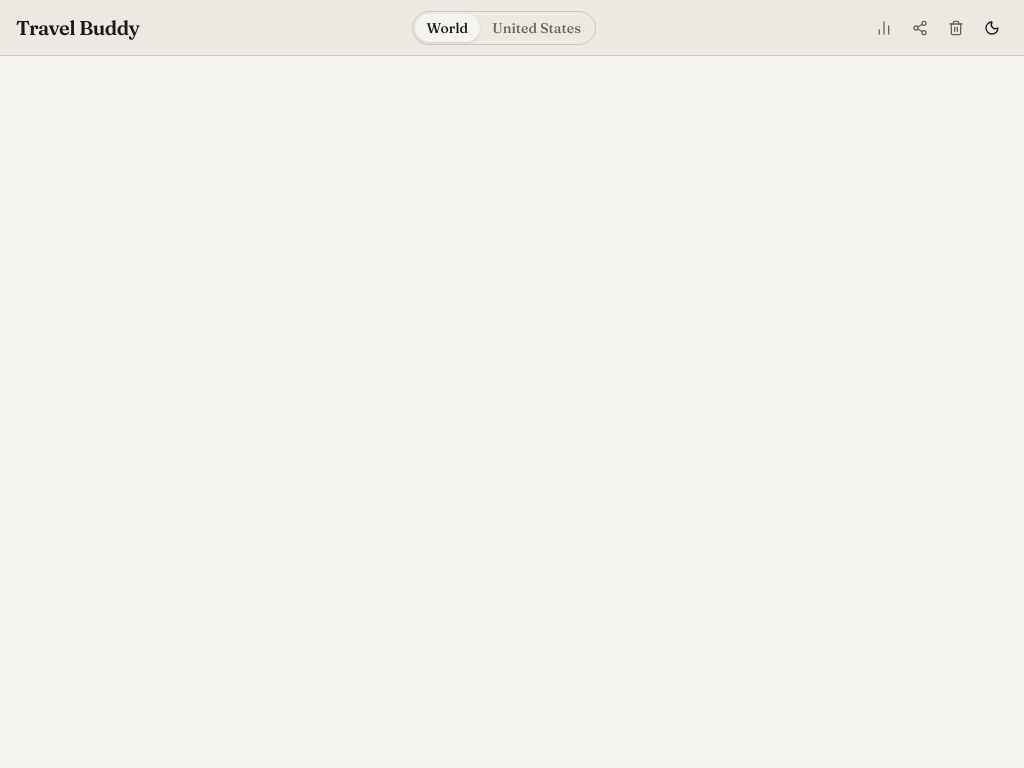
Scenario: Header › opens the confirmation dialog when the clear button is clicked
The width and height of the screenshot is (1024, 768).
Step 1. Click the button named "clear all data" → (956, 28), box x1=940 y1=12 x2=972 y2=44
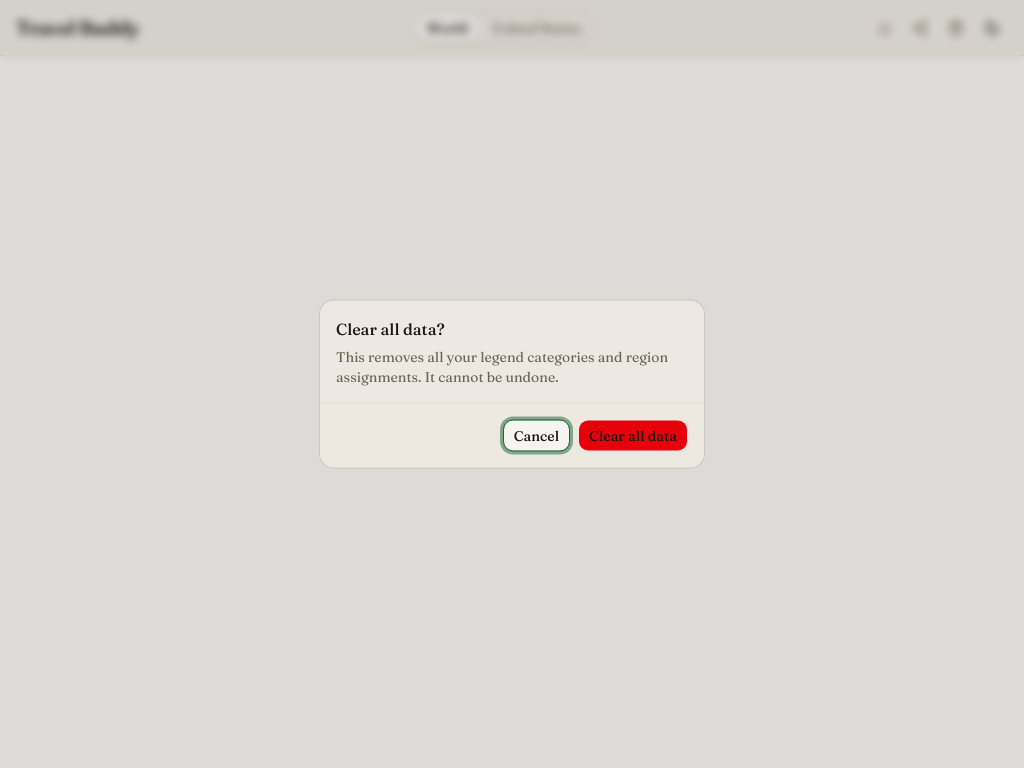
Expected: the heading "Clear all data?" is shown, x1=336 y1=316 x2=445 y2=340
Expected: the text "cannot be undone" is shown, x1=336 y1=348 x2=668 y2=386
